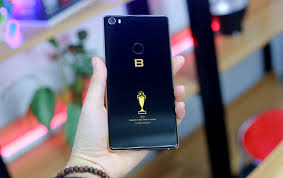bphone: (99, 13, 182, 154)
